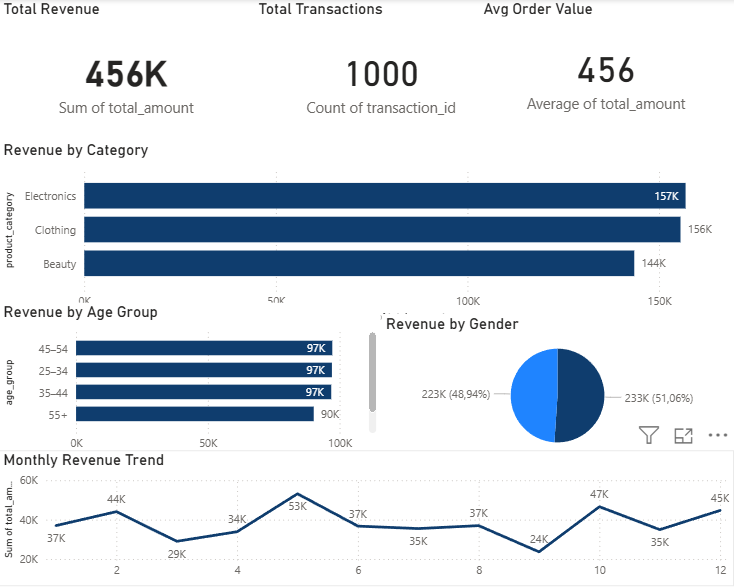

What the dashboard file says about the page in this screenshot:
{"tool":"powerbi","page":{"name":"Page 1","canvas":[1280,720],"ordinal":0},"visuals":[{"type":"card","title":"Total Revenue","fields":{"Values":["Sum(superstore_cleanedd.total_amount)"]},"box":[0,0,279.6,160.2],"z":506},{"type":"card","title":"Total Transactions","fields":{"Values":["CountNonNull(superstore_cleanedd.transaction_id)"]},"box":[279.6,0,279.6,160.2],"z":1006},{"type":"card","title":"Avg Order Value","fields":{"Values":["Avg(superstore_cleanedd.total_amount)"]},"box":[526.7,0,279.6,150],"z":1506},{"type":"clusteredBarChart","title":"Revenue by Category","fields":{"Category":["superstore_cleanedd.product_category"],"Y":["Sum(superstore_cleanedd.total_amount)"]},"box":[0,155.1,806.3,204.5],"z":2006},{"type":"pieChart","title":"Revenue by Gender","fields":{"Category":["superstore_cleanedd.gender"],"Y":["Sum(superstore_cleanedd.total_amount)"]},"box":[419.3,346,386.9,160.2],"z":2506},{"type":"clusteredBarChart","title":"Revenue by Age Group","fields":{"Y":["Sum(superstore_cleanedd.total_amount)"],"Category":["superstore_cleanedd.age_group"]},"box":[0,334.1,419.3,172.2],"z":3006},{"type":"lineChart","title":"Monthly Revenue Trend","fields":{"Y":["Sum(superstore_cleanedd.total_amount)"],"Category":["superstore_cleanedd.month"]},"box":[0,495.4,806.9,149.6],"z":3506}]}

Visuals, with their boxes on the page's 1280x720 design canvas (x1, y1, x2, y2). These are canvas units, not pixel positions in the 734x587 screenshot, which may show the page scaled, cropped or inside an application window:
"Total Revenue" card: x1=0 y1=0 x2=280 y2=160
"Total Transactions" card: x1=280 y1=0 x2=559 y2=160
"Avg Order Value" card: x1=527 y1=0 x2=806 y2=150
"Revenue by Category" clusteredBarChart: x1=0 y1=155 x2=806 y2=360
"Revenue by Gender" pieChart: x1=419 y1=346 x2=806 y2=506
"Revenue by Age Group" clusteredBarChart: x1=0 y1=334 x2=419 y2=506
"Monthly Revenue Trend" lineChart: x1=0 y1=495 x2=807 y2=645
